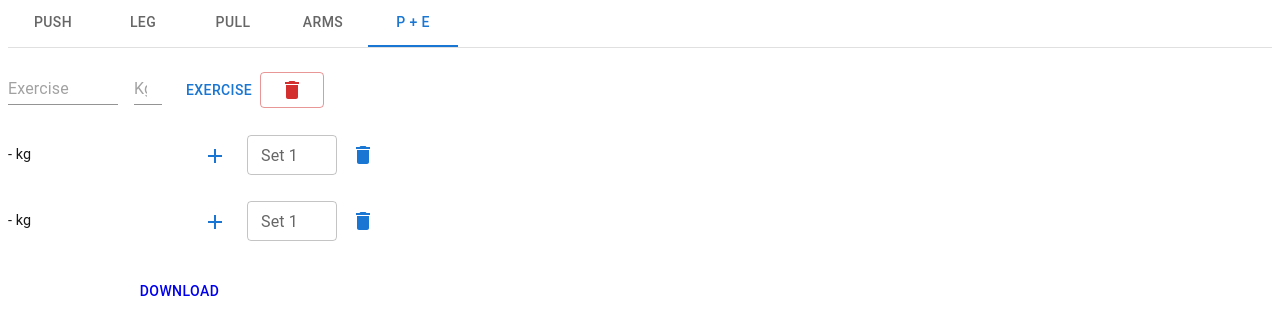
Test: Exercices › should set isEdition mode
Click the element with test id "isNotEdition0": x=20, y=154 [8,146,31,163]
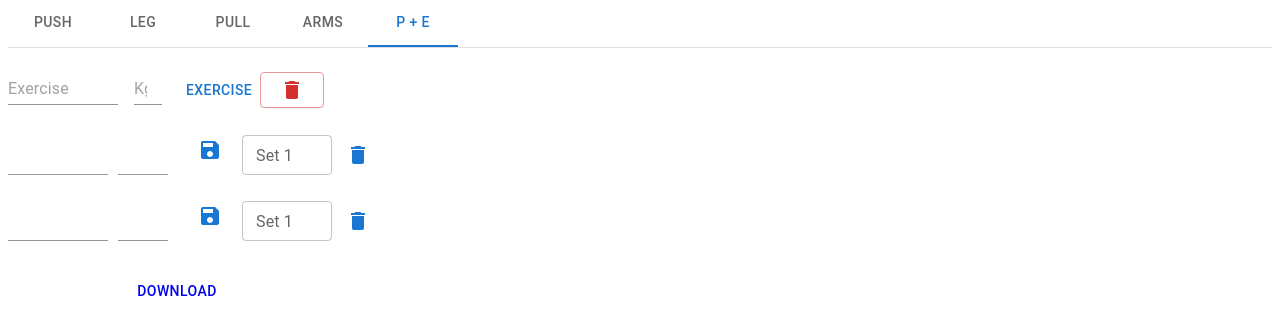
Result: the element with test id "isEdition0" is shown at [8,124,108,174]
